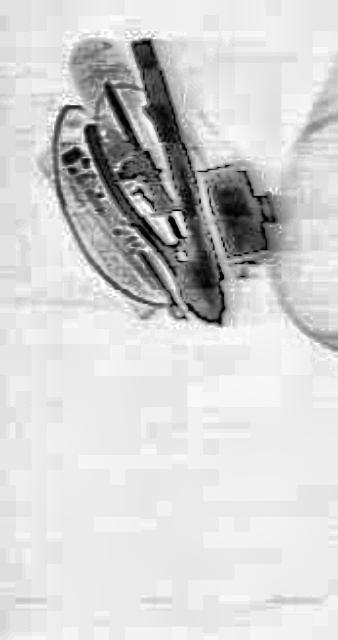Pliers: (74, 24, 254, 366)
